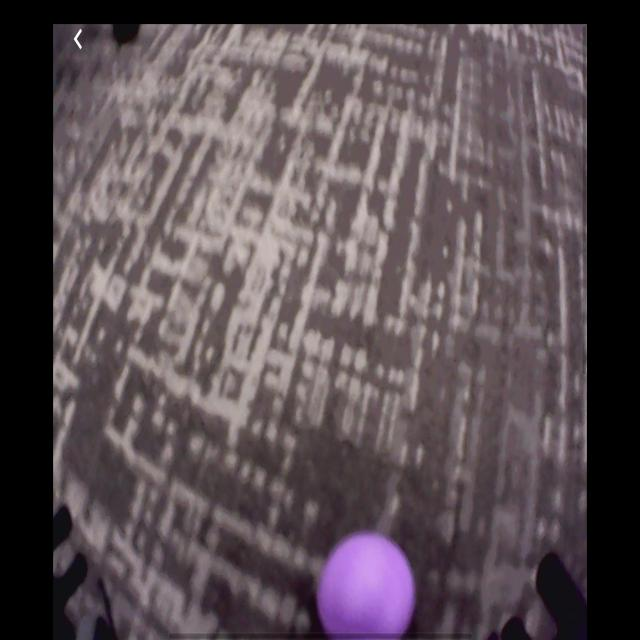ball: (319, 538, 419, 633)
